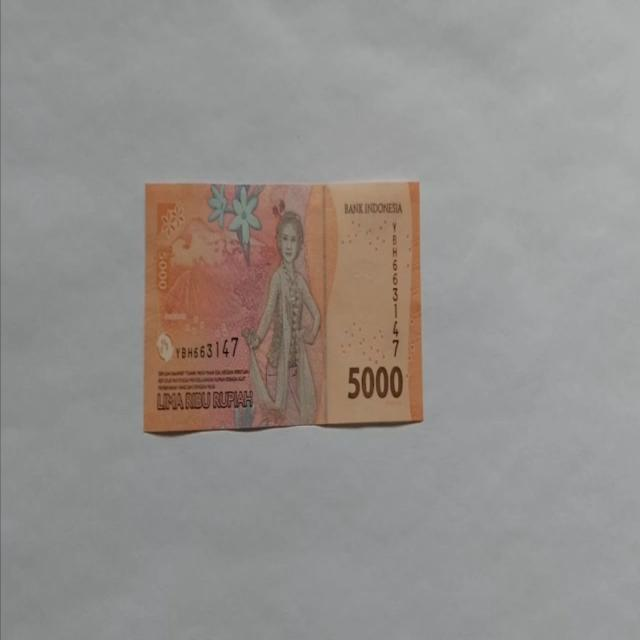lima ribu rupiah: (142, 178, 424, 434), (240, 210, 322, 426)
